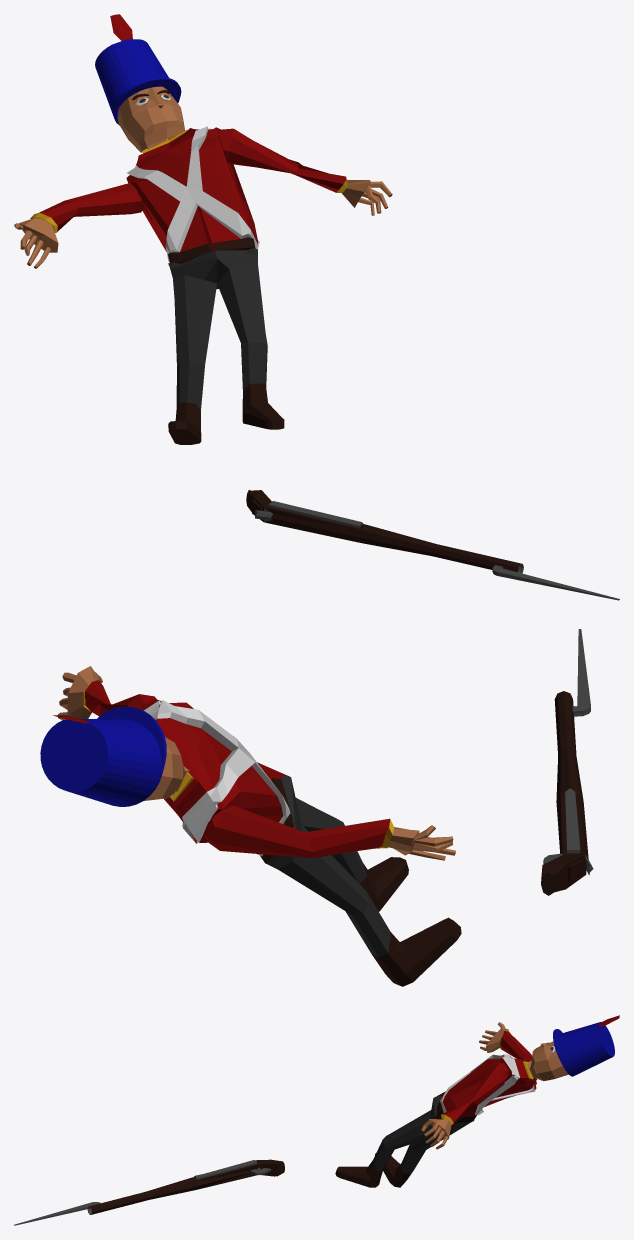
Rendered from frame3.obj.
3 views of the same model, one above another, from view 1: azimuth 30°, elevation 25°; view 2: azimuth 150°, elevation 25°; view 3: azimuth 270°, elevation 25° (orthographic). The views are drawn at different scales.
Parts seen in each view (by area): view 1: {Man}_Circle, {Mesket}_Cube.001; view 2: {Man}_Circle, {Mesket}_Cube.001; view 3: {Man}_Circle, {Mesket}_Cube.001.
Part boxes in pixels (x1,y1,x2,y2): {Man}_Circle: (14, 14, 392, 444); {Mesket}_Cube.001: (246, 490, 619, 600); {Man}_Circle: (40, 666, 461, 986); {Mesket}_Cube.001: (541, 629, 593, 895); {Man}_Circle: (335, 1015, 619, 1187); {Mesket}_Cube.001: (14, 1159, 284, 1225).
Bounding box in the file's own units: 12.94 × 11.04 × 30.37.
